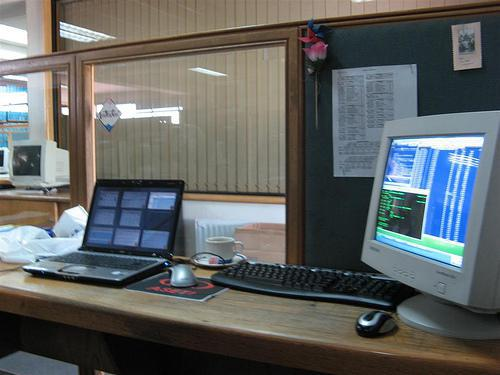tv: (379, 116, 489, 297), (51, 175, 183, 287), (7, 137, 66, 190)
